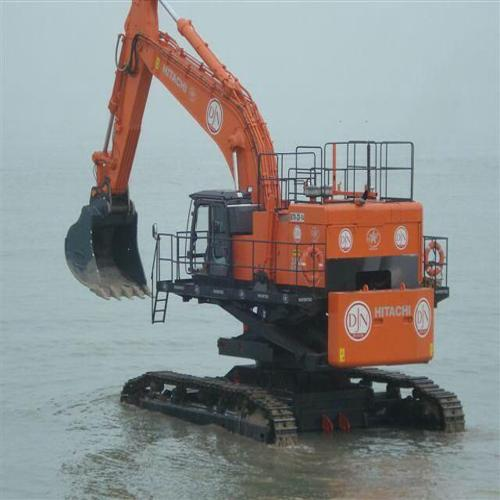con_eq: (55, 8, 474, 447)
